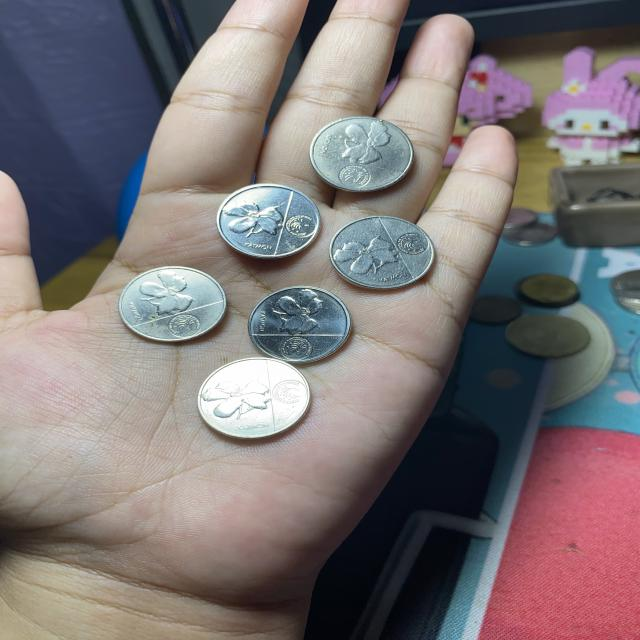25Cent_New_Back: (222, 198, 280, 250), (333, 236, 396, 281), (280, 287, 334, 334), (133, 273, 199, 310), (346, 117, 395, 166)
